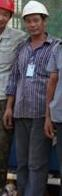boots: (0, 181, 9, 195)
hard-hat: (19, 0, 48, 19)
